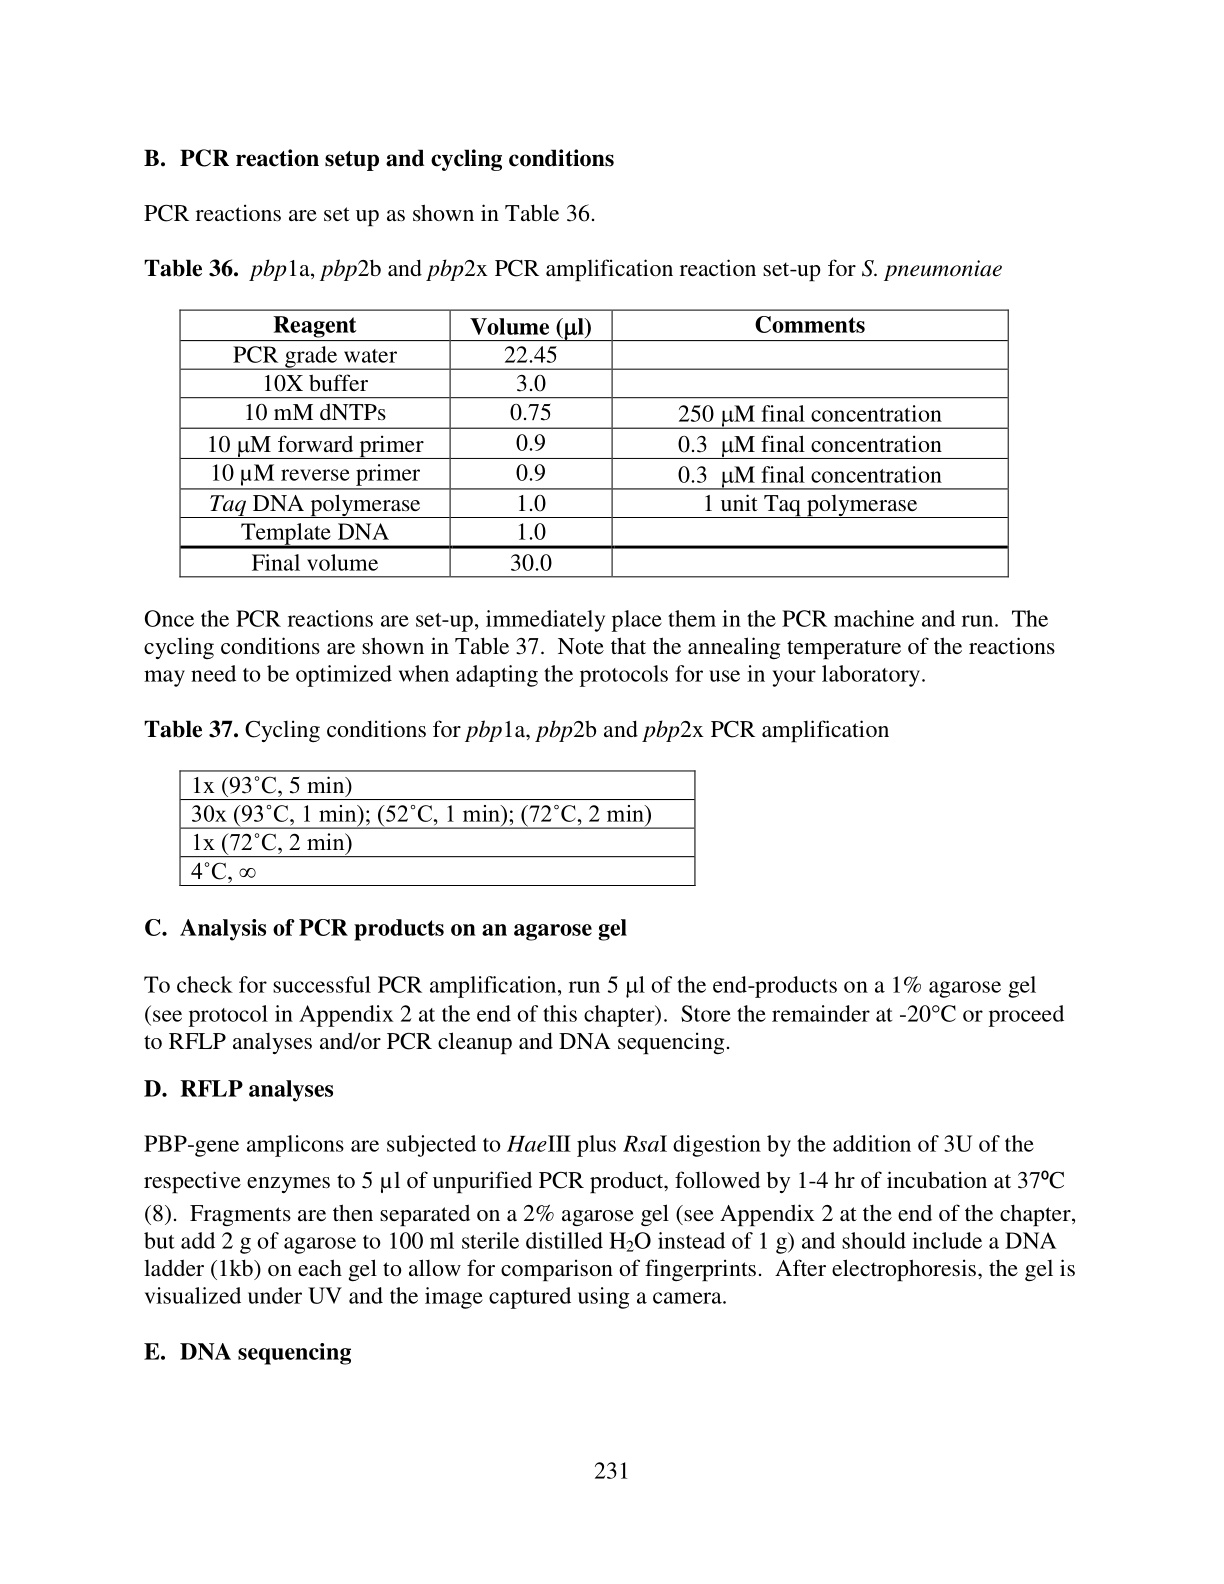full_lined: (177, 309, 1009, 579), (177, 770, 696, 887)
